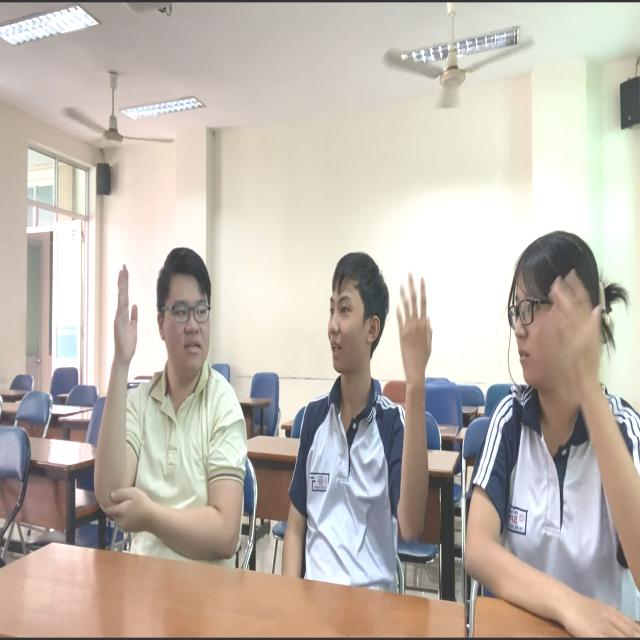raise_hand: (464, 227, 616, 629), (92, 241, 254, 569)
